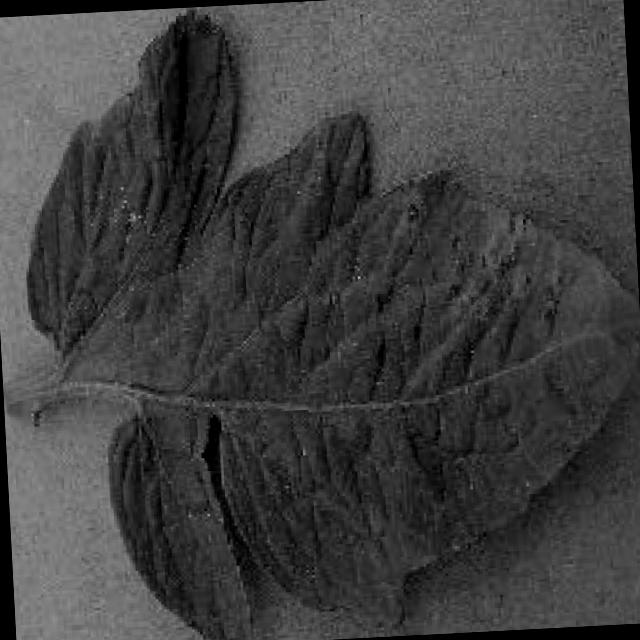bacterial spot: (4, 8, 640, 640)
